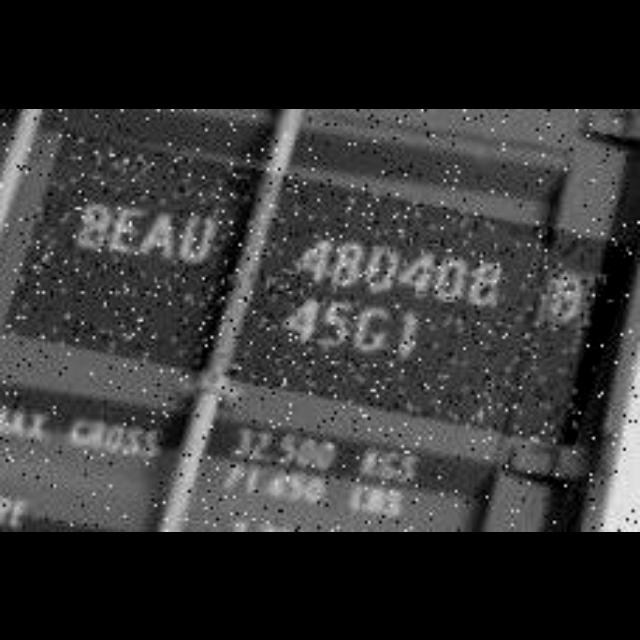0: (436, 252, 469, 308), (365, 240, 397, 294), (306, 472, 330, 514), (315, 432, 335, 472), (300, 432, 318, 473)
1: (393, 310, 423, 362), (246, 467, 260, 499)
2: (213, 458, 251, 498), (253, 427, 273, 463)
3: (230, 424, 253, 462)
4: (281, 288, 321, 348), (401, 241, 437, 303), (292, 234, 332, 284), (267, 468, 293, 507)
5: (317, 293, 357, 355), (275, 431, 303, 471), (290, 468, 308, 508)
8: (546, 267, 588, 337), (468, 252, 504, 310), (332, 235, 364, 292)
a: (140, 198, 180, 266), (10, 404, 26, 446)
b: (71, 193, 111, 255), (365, 484, 389, 518)
e: (112, 196, 146, 260)
g: (352, 300, 392, 358), (65, 416, 93, 452), (378, 444, 397, 484)
k: (354, 446, 376, 482)
l: (346, 478, 368, 509)
o: (104, 416, 128, 462)
r: (86, 414, 110, 452)
s: (397, 448, 421, 488), (142, 426, 168, 462), (124, 420, 144, 462), (386, 486, 406, 516)
u: (180, 210, 222, 274)
x: (26, 406, 52, 446)
